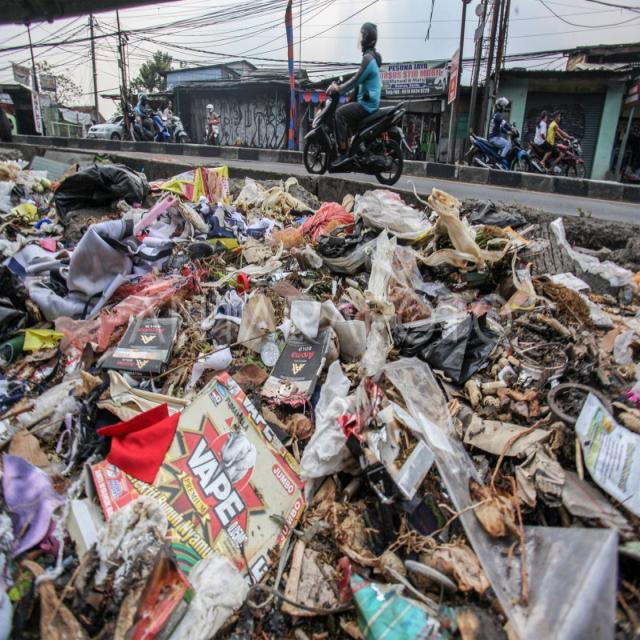trash: (0, 185, 640, 639)
